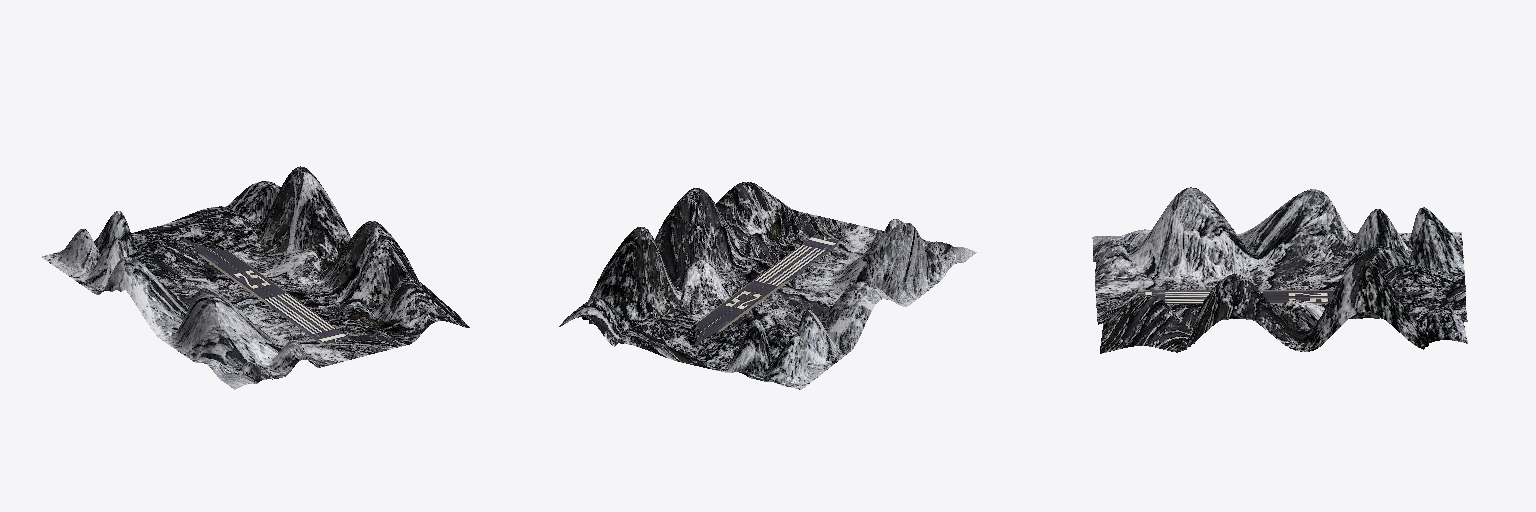
3 renders of one model, left to right at view 1: azimuth 30°, elevation 25°; view 2: azimuth 150°, elevation 25°; view 3: azimuth 270°, elevation 25°, orthographic.
Parts seen in each view (by area): view 1: Plane, Plane.001; view 2: Plane, Plane.001; view 3: Plane, Plane.001.
Part boxes in pixels (x1,y1,x2,y2): Plane: (41,166,469,389); Plane.001: (181,239,349,344); Plane: (559,182,976,389); Plane.001: (694,235,842,345); Plane: (1092,187,1467,353); Plane.001: (1138,290,1425,303).
Size of the model in its own units: 331 by 94.57 by 431.
Materials: 2 (2 with a texture image).